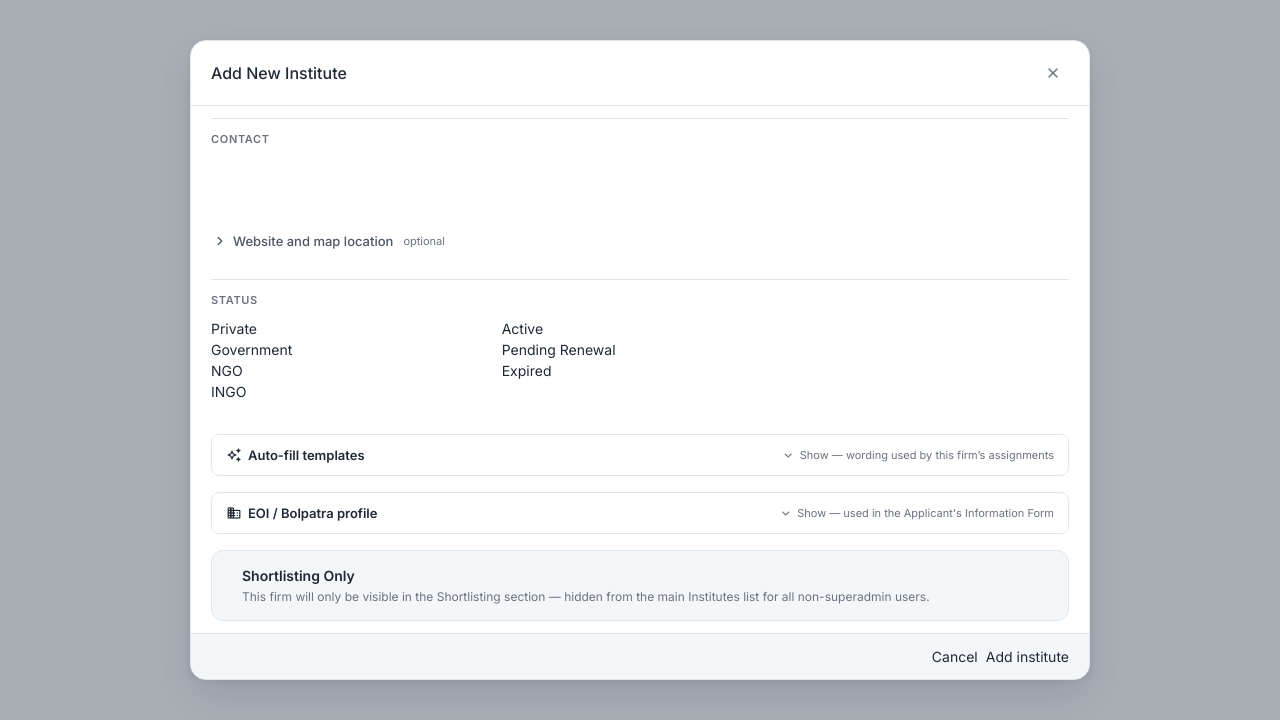
institute form — key staff roster › starts empty for a new institute, with an Add control
(page scrolled)
Click the button that starts with "EOI / Bolpatra profile": (313, 513) [211,492,1069,534]
(page scrolled)
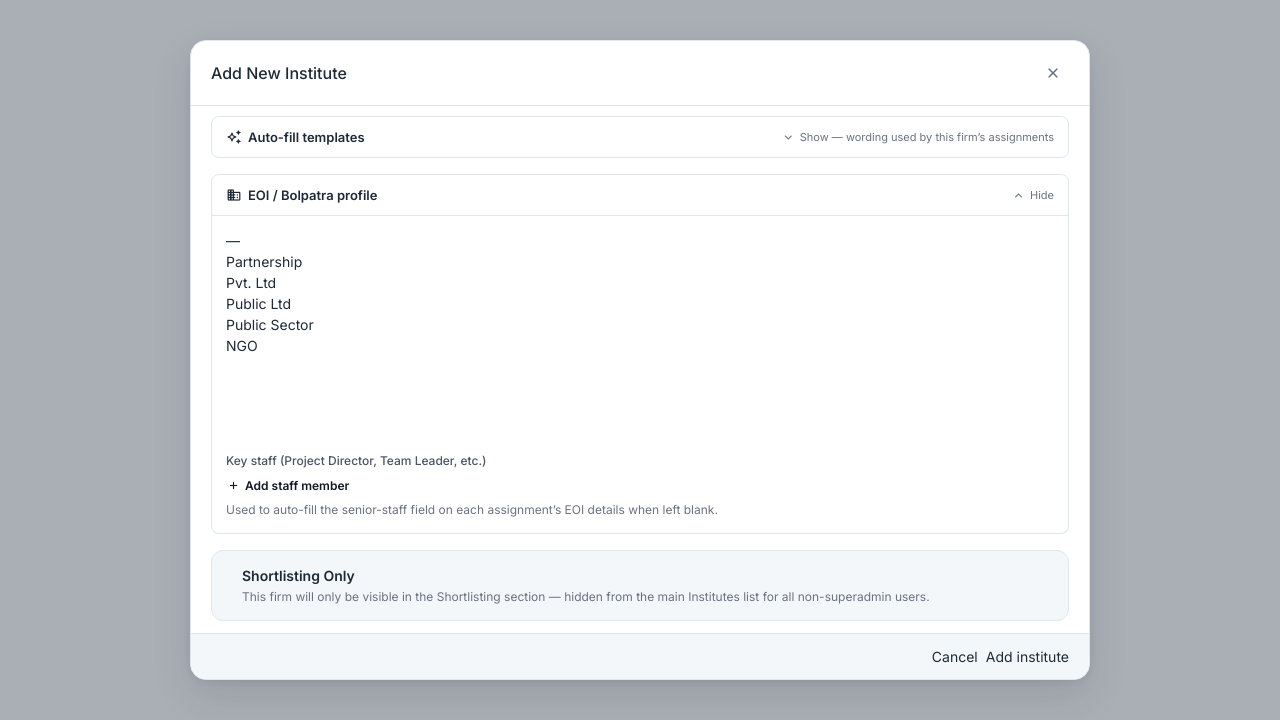
Result: the button "Add staff member" is shown at [226,476,349,495]
